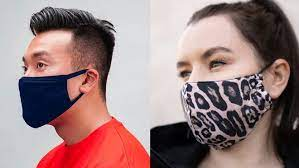FaceMask: (171, 74, 275, 150), (18, 70, 95, 127)
